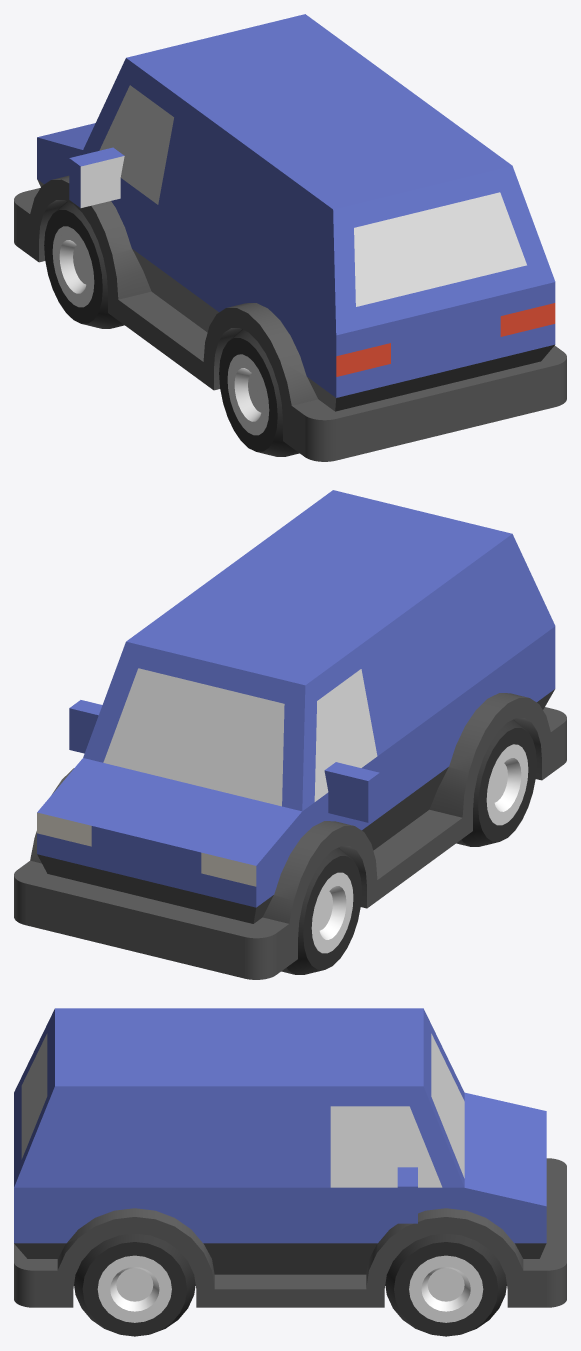
The model's file is van.glb.
3 renders of one model, top to bottom at view 1: azimuth 30°, elevation 25°; view 2: azimuth 150°, elevation 25°; view 3: azimuth 270°, elevation 25°, orthographic. The views are drawn at different scales.
Parts seen in each view (by area): view 1: van; view 2: van; view 3: van.
Part boxes in pixels (x1,y1,x2,y2): van: [14, 14, 566, 461]; van: [14, 490, 566, 979]; van: [14, 1008, 566, 1336].
Bounding box in the file's own units: 2.25 × 1.95 × 4.05.
